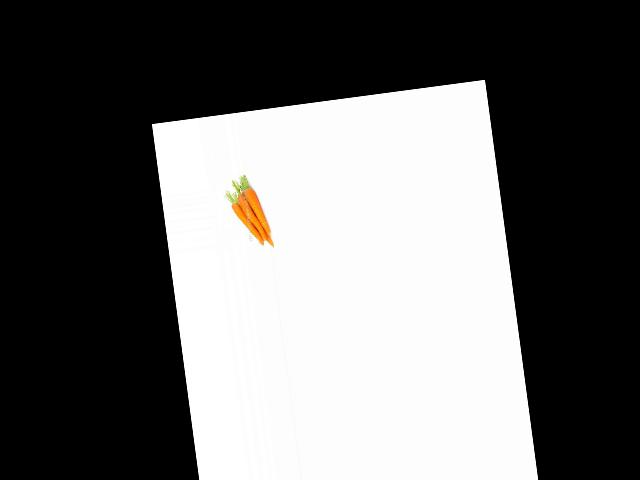carrot: (240, 182, 276, 242)
